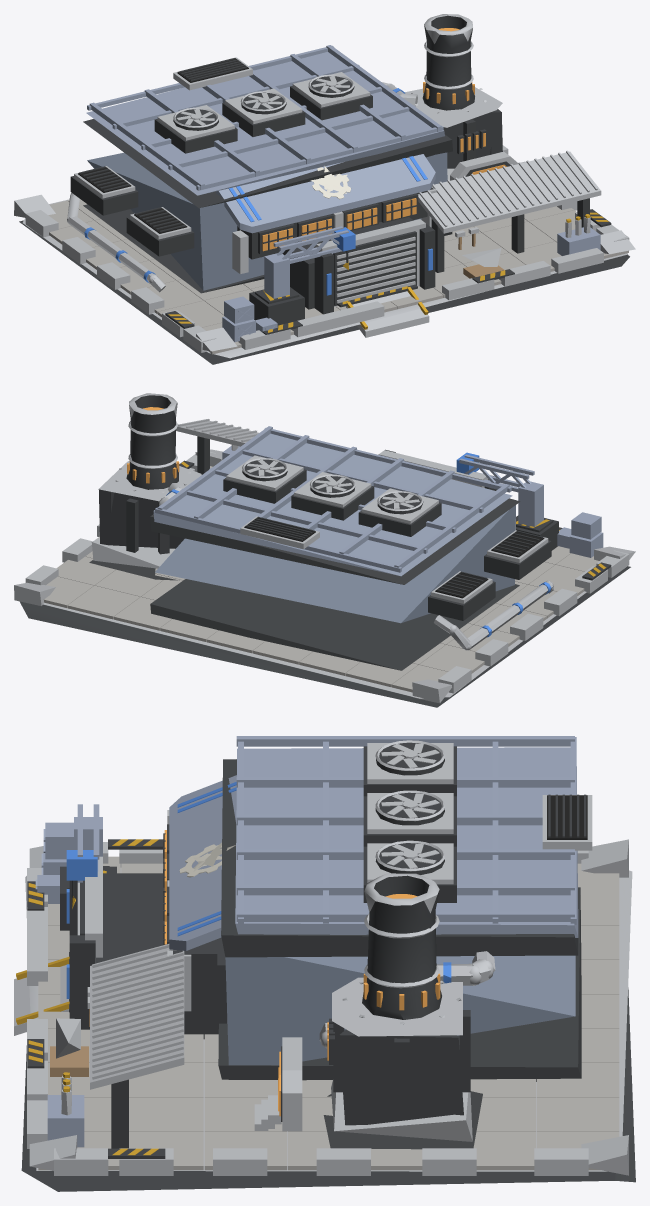
The model's file is factory.glb.
3 renders of one model, top to bottom at view 1: azimuth 30°, elevation 25°; view 2: azimuth 150°, elevation 25°; view 3: azimuth 270°, elevation 25°, orthographic. The views are drawn at different scales.
Parts seen in each view (by area): view 1: Base; view 2: Base; view 3: Base.
Part boxes in pixels (x1,y1,x2,y2): Base: [14, 14, 635, 364]; Base: [14, 393, 635, 707]; Base: [14, 736, 635, 1191].
Size of the model in its own units: 15.33 by 5.82 by 12.62.
